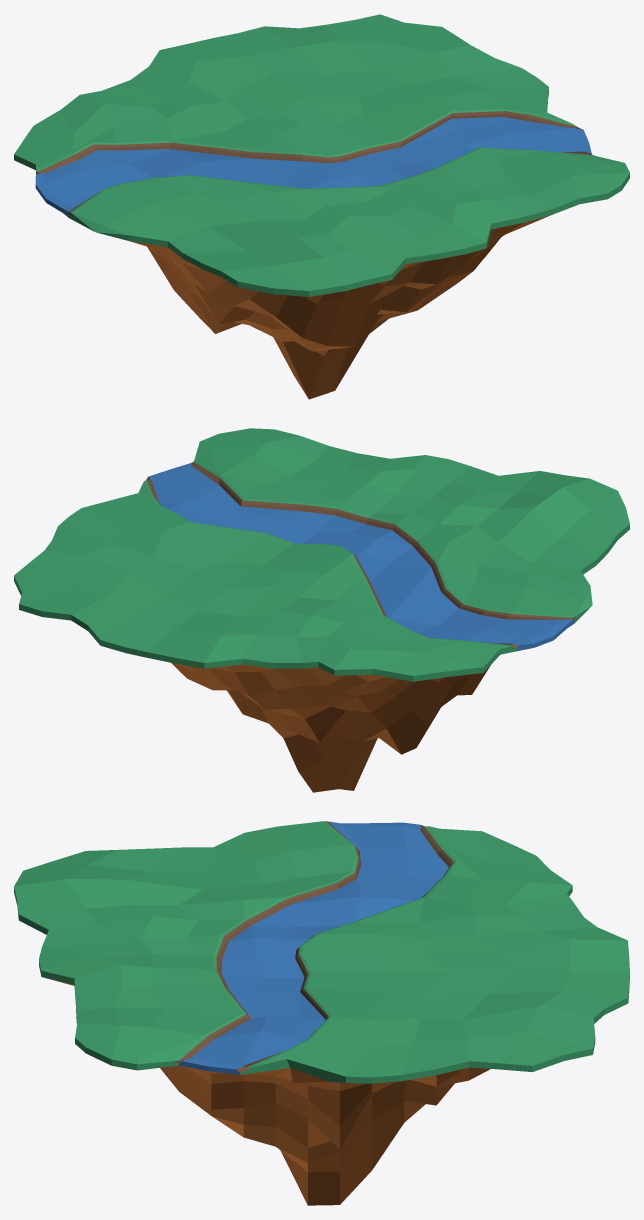
File: Floting Base_1.fbx
3 renders of one model, top to bottom at view 1: azimuth 30°, elevation 25°; view 2: azimuth 150°, elevation 25°; view 3: azimuth 270°, elevation 25°, orthographic. The views are drawn at different scales.
Visible parts, largest first — view 1: M_Floting Base 1; view 2: M_Floting Base 1; view 3: M_Floting Base 1.
Part boxes in pixels (x1=…): M_Floting Base 1: x1=14, y1=14, x2=629, y2=399; M_Floting Base 1: x1=14, y1=428, x2=629, y2=792; M_Floting Base 1: x1=14, y1=821, x2=629, y2=1205.
Bounding box in the file's own units: 1200 × 580 × 1223.
1 material, 1 textured.
